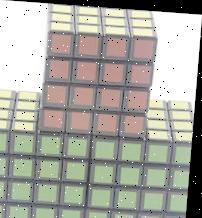cube: (39, 3, 159, 138)
